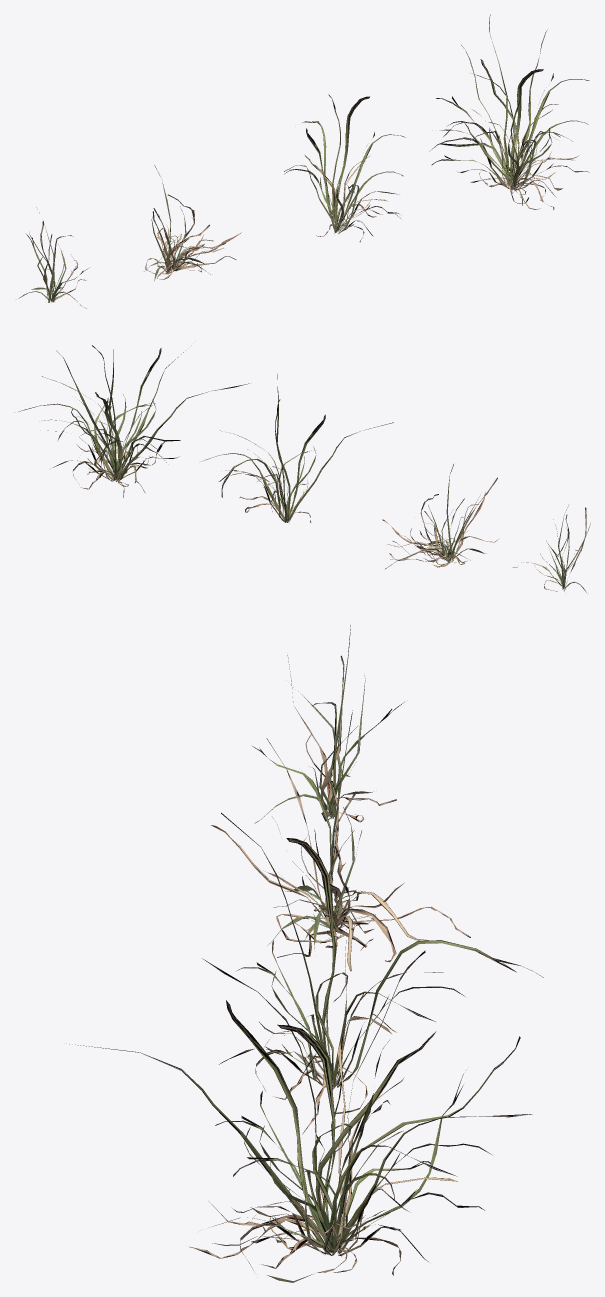
Rendered from grass_tuft_b.glb.
3 views of the same model, one above another, from view 1: azimuth 30°, elevation 25°; view 2: azimuth 150°, elevation 25°; view 3: azimuth 270°, elevation 25° (orthographic). The views are drawn at different scales.
Visible parts, largest first — view 1: grass_medium_02_d, grass_medium_02_c, grass_medium_02_b, grass_medium_02_a; view 2: grass_medium_02_d, grass_medium_02_c, grass_medium_02_b, grass_medium_02_a; view 3: grass_medium_02_d, grass_medium_02_c, grass_medium_02_b, grass_medium_02_a.
Boxes of the visible parts, x1,y1,x2,y2 form: grass_medium_02_d: (429, 14, 589, 209); grass_medium_02_c: (284, 94, 405, 242); grass_medium_02_b: (144, 165, 241, 280); grass_medium_02_a: (18, 207, 88, 308); grass_medium_02_d: (18, 345, 248, 497); grass_medium_02_c: (202, 374, 393, 522); grass_medium_02_b: (382, 464, 499, 568); grass_medium_02_a: (513, 506, 590, 592); grass_medium_02_d: (69, 950, 532, 1282); grass_medium_02_c: (219, 812, 543, 1134); grass_medium_02_b: (211, 710, 470, 971); grass_medium_02_a: (252, 625, 404, 823).
Bounding box in the file's own units: 0.9768 × 0.2608 × 0.369.
1 material, 1 textured.
